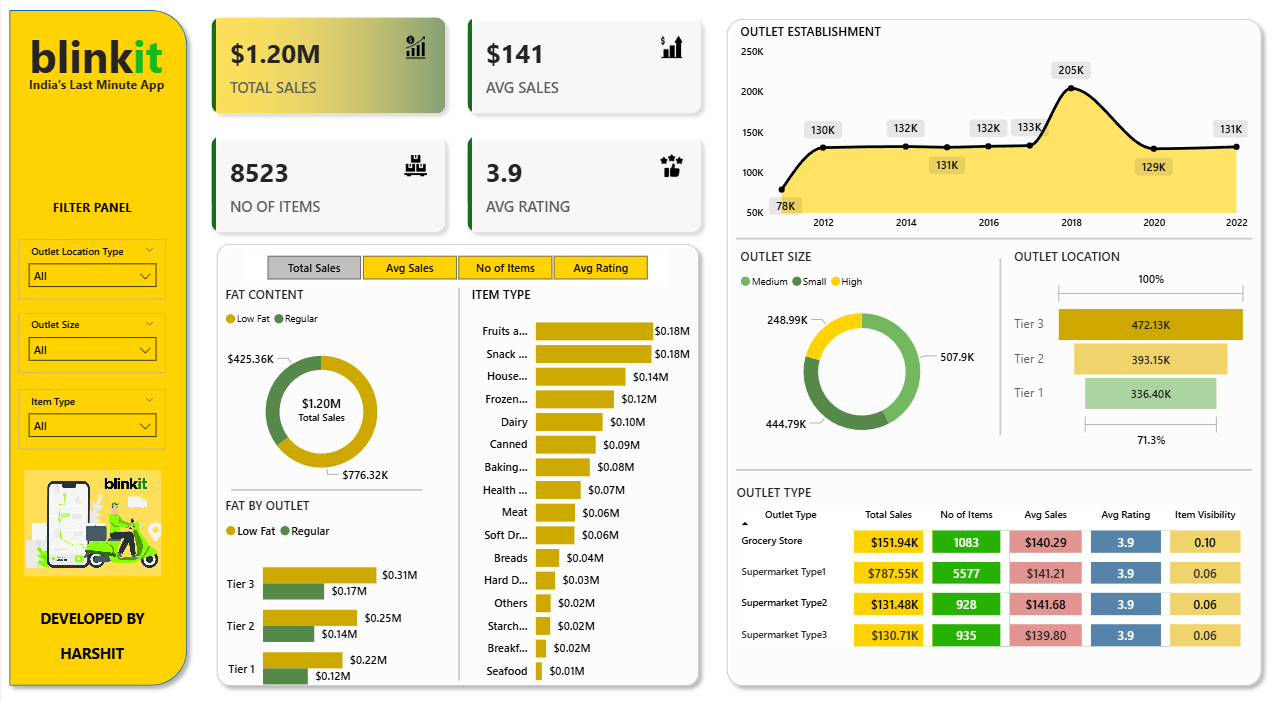

Layout of this report page (visuals, bound fields, positions):
{"tool":"powerbi","page":{"name":"Page 1","canvas":[1400,800],"ordinal":0},"visuals":[{"type":"shape","box":[0,15,212,755],"z":0},{"type":"textbox","box":[10.9,35.4,185.4,73.6],"z":1000},{"type":"textbox","box":[17.7,91.3,173.1,35.4],"z":2000},{"type":"cardVisual","fields":{"Data":["BlinkIT Grocery Data.Total Sales","BlinkIT Grocery Data.Avg Sales","BlinkIT Grocery Data.No of Items","BlinkIT Grocery Data.Avg Rating"]},"box":[212.7,15,569.9,269.9],"z":3000},{"type":"shape","box":[226.3,269.9,544,500.3],"z":4000},{"type":"donutChart","title":"FAT CONTENT","fields":{"Y":["BlinkIT Grocery Data.Total Sales"],"Category":["BlinkIT Grocery Data.Item Fat Content"]},"box":[239.9,324.5,219.5,230.4],"z":5000},{"type":"slicer","fields":{"Values":["Matrics.Matrics"]},"box":[264.5,284.9,464.9,39.5],"z":6000},{"type":"cardVisual","fields":{"Data":["BlinkIT Grocery Data.Total Sales"]},"box":[304,426.7,91.3,61.4],"z":6001},{"type":"clusteredBarChart","title":"FAT BY OUTLET","fields":{"Y":["BlinkIT Grocery Data.Total Sales"],"Category":["BlinkIT Grocery Data.Outlet Location Type"],"Series":["BlinkIT Grocery Data.Item Fat Content"]},"box":[239.9,554.9,219.5,230.4],"z":6002},{"type":"shape","box":[250.9,539.9,208.6,15],"z":6003},{"type":"shape","box":[490.8,327.2,17.7,428.1],"z":6004},{"type":"clusteredBarChart","title":"ITEM TYPE","fields":{"Category":["BlinkIT Grocery Data.Item Type"],"Y":["BlinkIT Grocery Data.Total Sales"]},"box":[508.5,324.5,248.1,445.8],"z":6005},{"type":"shape","box":[782.6,24.5,601.2,745.7],"z":6006},{"type":"lineChart","title":"OUTLET ESTABLISHMENT","fields":{"Category":["BlinkIT Grocery Data.Outlet Establishment Year"],"Y":["Sum(BlinkIT Grocery Data.Sales)"]},"box":[801.6,38.2,563.1,234.5],"z":6007},{"type":"shape","box":[801.6,257.7,563.1,31.4],"z":6008},{"type":"donutChart","title":"OUTLET SIZE","fields":{"Y":["Sum(BlinkIT Grocery Data.Sales)"],"Category":["BlinkIT Grocery Data.Outlet Size"]},"box":[801.6,283.6,275,225],"z":6009},{"type":"shape","box":[1083.9,294.5,12.3,193.6],"z":6010},{"type":"funnel","title":"OUTLET LOCATION","fields":{"Y":["Sum(BlinkIT Grocery Data.Sales)"],"Category":["BlinkIT Grocery Data.Outlet Location Type"]},"box":[1100.2,283.6,264.5,225],"z":6011},{"type":"pivotTable","title":"OUTLET TYPE","fields":{"Rows":["BlinkIT Grocery Data.Outlet Type"],"Values":["BlinkIT Grocery Data.Total Sales","BlinkIT Grocery Data.No of Items","BlinkIT Grocery Data.Avg Sales","BlinkIT Grocery Data.Avg Rating","Avg(BlinkIT Grocery Data.Item Visibility)"]},"box":[797.6,541.2,572.6,211.3],"z":6012},{"type":"shape","box":[801.6,509.9,563.1,31.4],"z":6013},{"type":"slicer","fields":{"Values":["BlinkIT Grocery Data.Outlet Location Type"]},"box":[19.1,274,160.9,65.4],"z":6014},{"type":"slicer","fields":{"Values":["BlinkIT Grocery Data.Outlet Size"]},"box":[19.1,354.5,160.9,65.4],"z":6015},{"type":"slicer","fields":{"Values":["BlinkIT Grocery Data.Item Type"]},"box":[19.1,437.6,160.9,65.4],"z":6016},{"type":"textbox","box":[19.1,225,160.9,32.7],"z":6017},{"type":"textbox","box":[19.1,670.8,160.9,72.3],"z":6018},{"type":"image","box":[20.5,520.8,159.5,125.4],"z":6019}]}

Visuals, with their boxes on the page's 1400x800 design canvas (x1, y1, x2, y2). These are canvas units, not pixel positions in the 1279x702 screenshot, which may show the page scaled, cropped or inside an application window:
shape: {"left": 0, "top": 15, "right": 212, "bottom": 770}
textbox: {"left": 11, "top": 35, "right": 196, "bottom": 109}
textbox: {"left": 18, "top": 91, "right": 191, "bottom": 127}
cardVisual - BlinkIT Grocery Data.Total Sales x BlinkIT Grocery Data.Avg Sales: {"left": 213, "top": 15, "right": 783, "bottom": 285}
shape: {"left": 226, "top": 270, "right": 770, "bottom": 770}
"FAT CONTENT" donutChart: {"left": 240, "top": 324, "right": 459, "bottom": 555}
slicer - Matrics.Matrics: {"left": 264, "top": 285, "right": 729, "bottom": 324}
cardVisual - BlinkIT Grocery Data.Total Sales: {"left": 304, "top": 427, "right": 395, "bottom": 488}
"FAT BY OUTLET" clusteredBarChart: {"left": 240, "top": 555, "right": 459, "bottom": 785}
shape: {"left": 251, "top": 540, "right": 460, "bottom": 555}
shape: {"left": 491, "top": 327, "right": 508, "bottom": 755}
"ITEM TYPE" clusteredBarChart: {"left": 508, "top": 324, "right": 757, "bottom": 770}
shape: {"left": 783, "top": 24, "right": 1384, "bottom": 770}
"OUTLET ESTABLISHMENT" lineChart: {"left": 802, "top": 38, "right": 1365, "bottom": 273}
shape: {"left": 802, "top": 258, "right": 1365, "bottom": 289}
"OUTLET SIZE" donutChart: {"left": 802, "top": 284, "right": 1077, "bottom": 509}
shape: {"left": 1084, "top": 294, "right": 1096, "bottom": 488}
"OUTLET LOCATION" funnel: {"left": 1100, "top": 284, "right": 1365, "bottom": 509}
"OUTLET TYPE" pivotTable: {"left": 798, "top": 541, "right": 1370, "bottom": 752}
shape: {"left": 802, "top": 510, "right": 1365, "bottom": 541}
slicer - BlinkIT Grocery Data.Outlet Location Type: {"left": 19, "top": 274, "right": 180, "bottom": 339}
slicer - BlinkIT Grocery Data.Outlet Size: {"left": 19, "top": 354, "right": 180, "bottom": 420}
slicer - BlinkIT Grocery Data.Item Type: {"left": 19, "top": 438, "right": 180, "bottom": 503}
textbox: {"left": 19, "top": 225, "right": 180, "bottom": 258}
textbox: {"left": 19, "top": 671, "right": 180, "bottom": 743}
image: {"left": 20, "top": 521, "right": 180, "bottom": 646}
